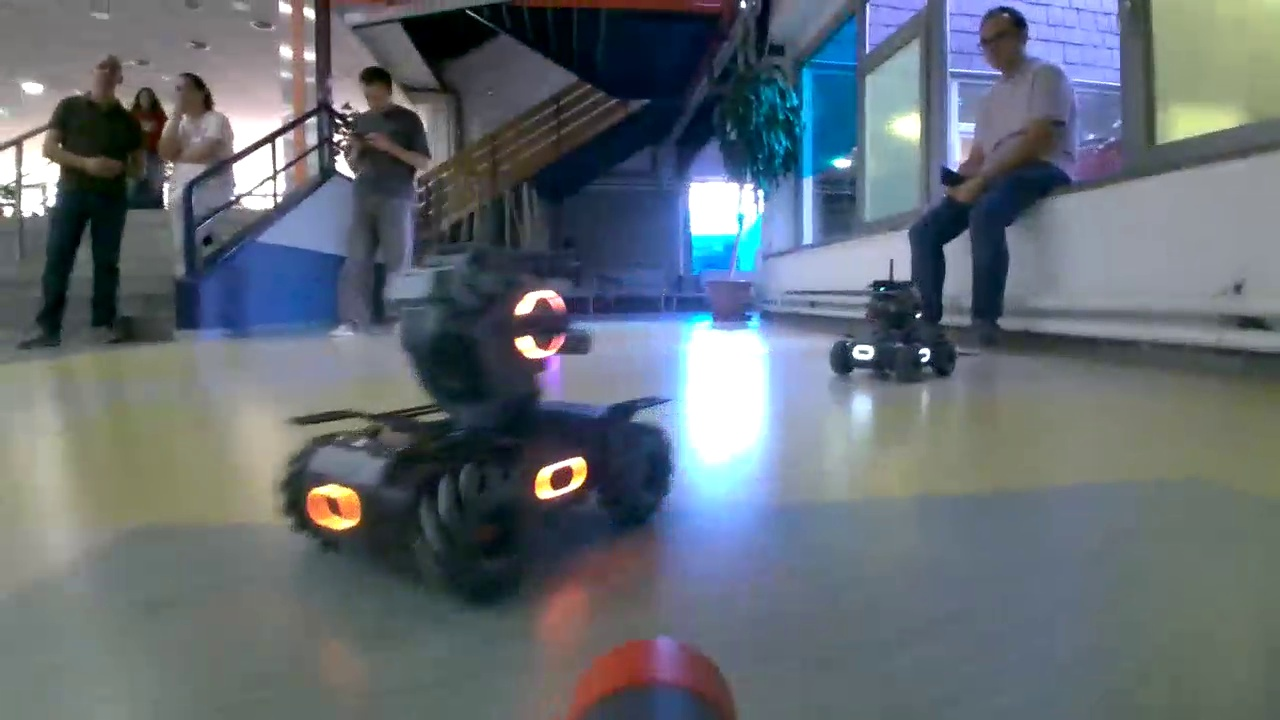robot: (274, 258, 668, 600), (831, 284, 957, 378)
